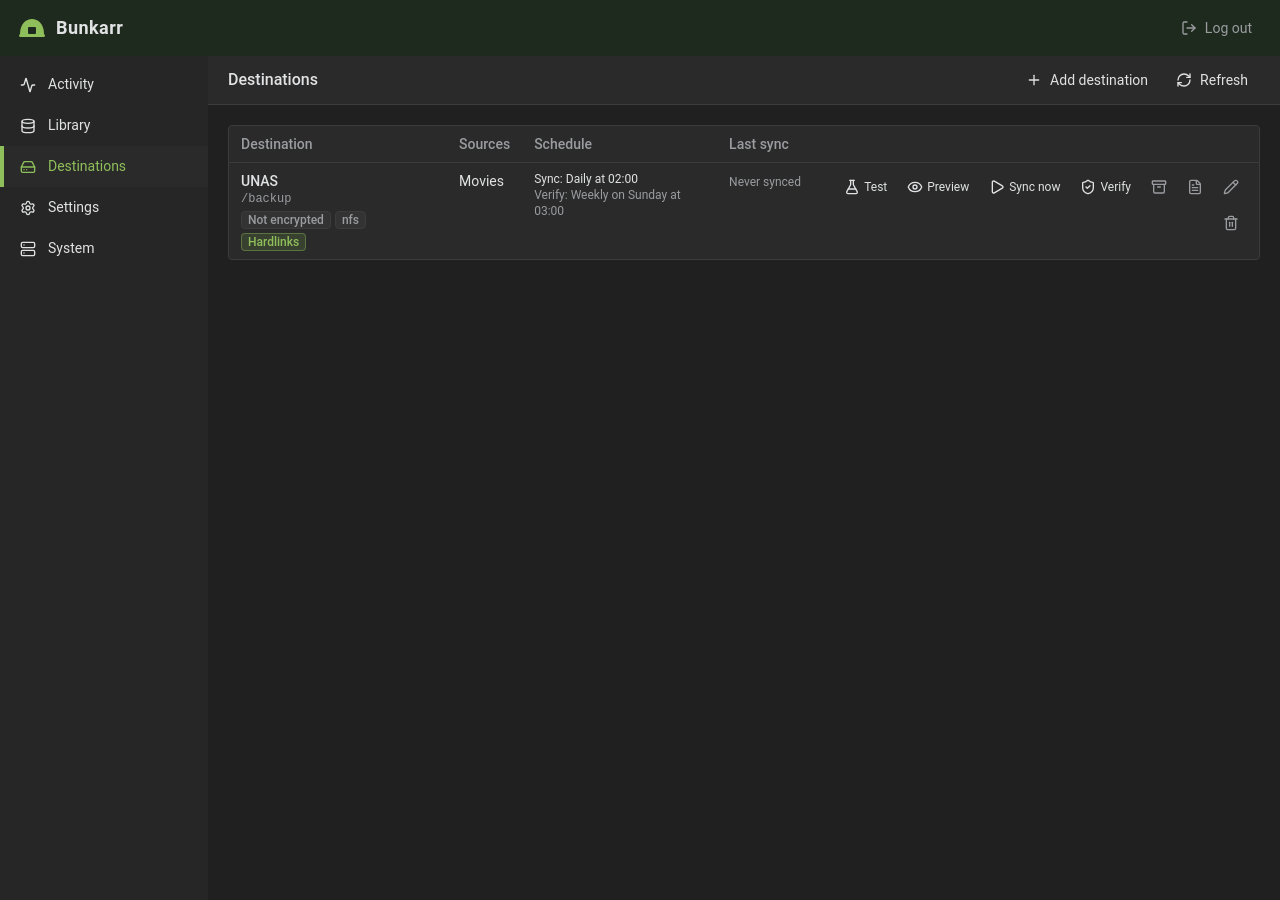
it: Manifests dialog › shows why an export was refused
The image size is (1280, 900).
Click the button named "Manifests on ": (1195, 187) [1179, 171, 1211, 203]
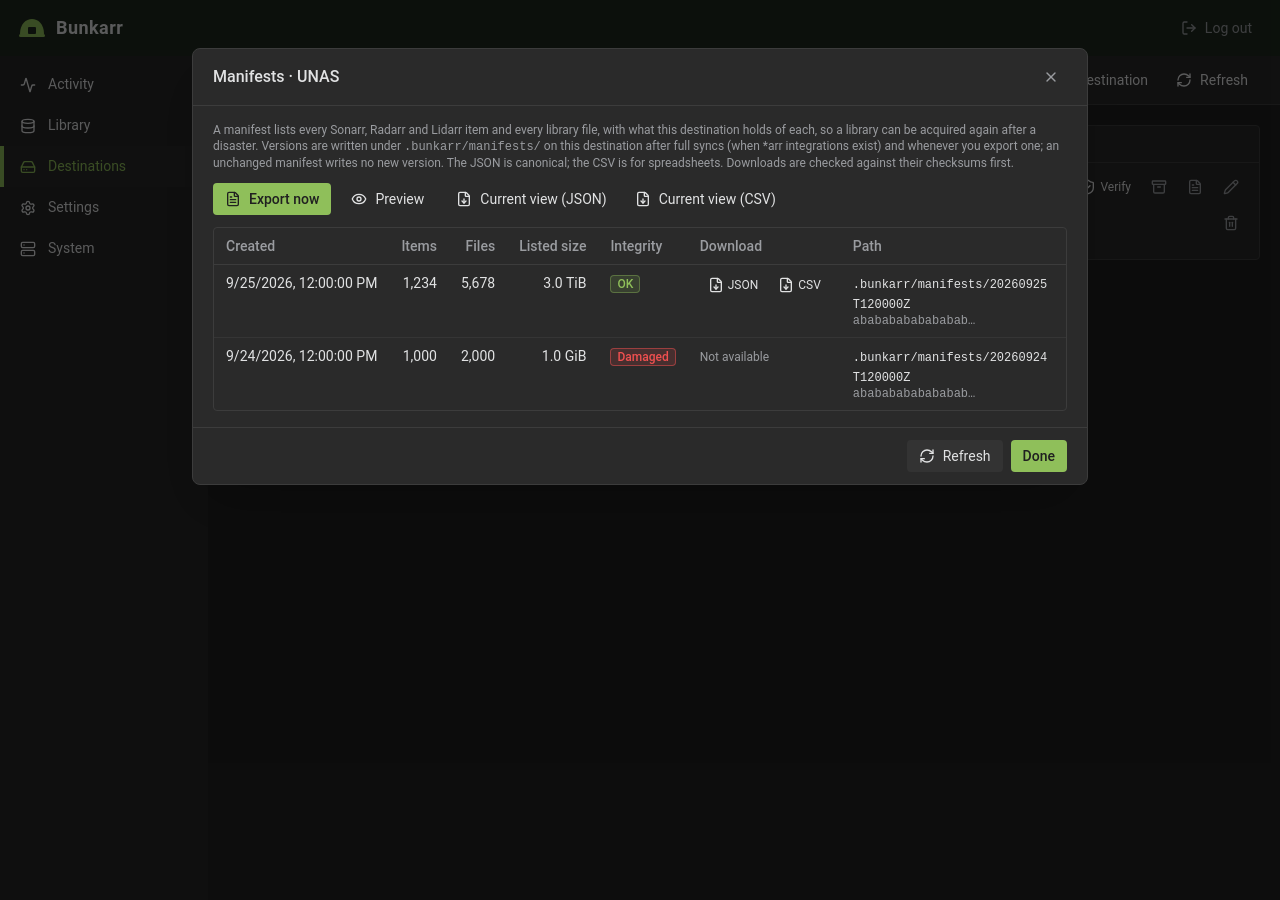
Click the button "Export now": (272, 199) [213, 183, 331, 215]
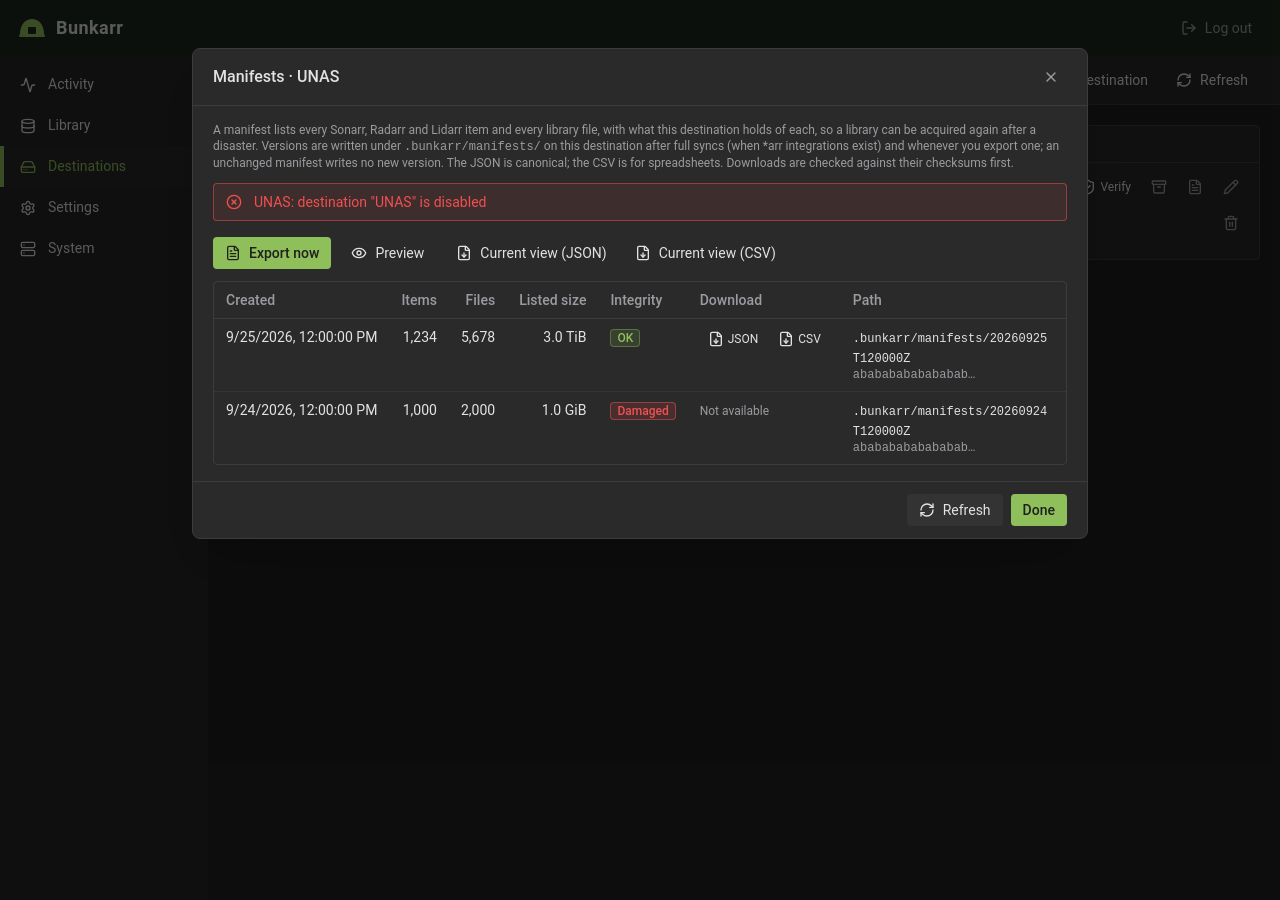
Expected: the text "UNAS: destination \"UNAS\" is disabled" is shown, [254, 194, 486, 210]
